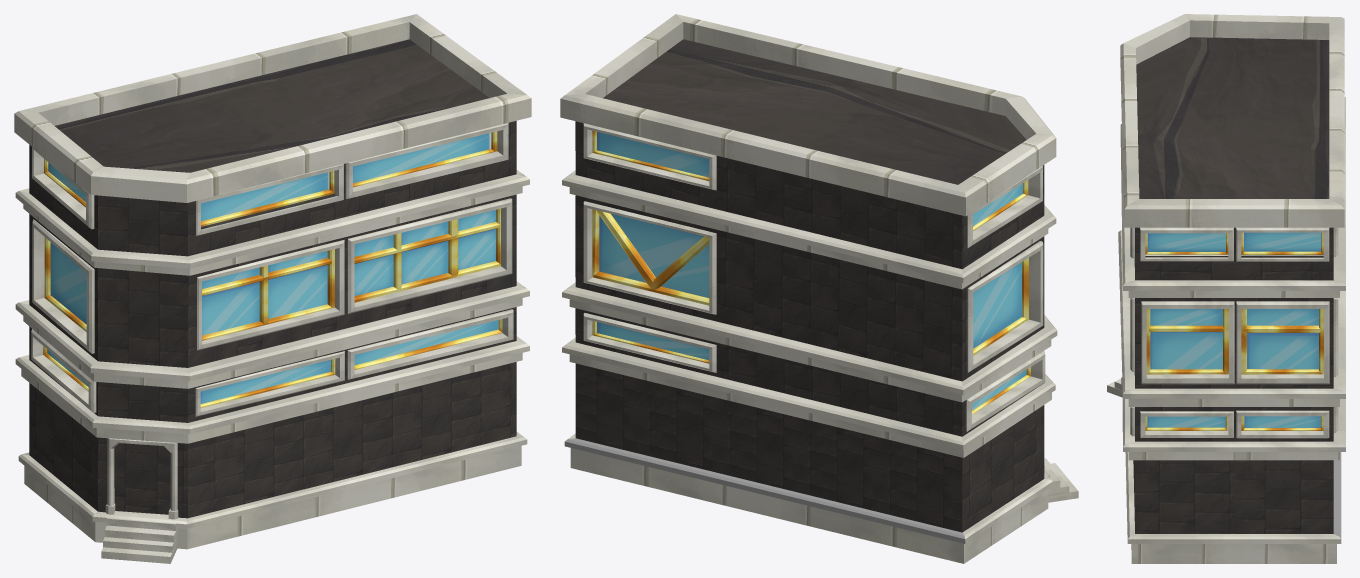
Rendered from Building 2.fbx.
3 renders of one model, left to right at view 1: azimuth 30°, elevation 25°; view 2: azimuth 150°, elevation 25°; view 3: azimuth 270°, elevation 25°, orthographic. The views are drawn at different scales.
Visible parts, largest first — view 1: Building_2; view 2: Building_2; view 3: Building_2.
Boxes of the visible parts, <box> form: Building_2: <box>14,14,531,563</box>; Building_2: <box>560,14,1078,563</box>; Building_2: <box>1107,14,1345,563</box>.
Bounding box in the file's own units: 73.22 × 62.53 × 37.55.
